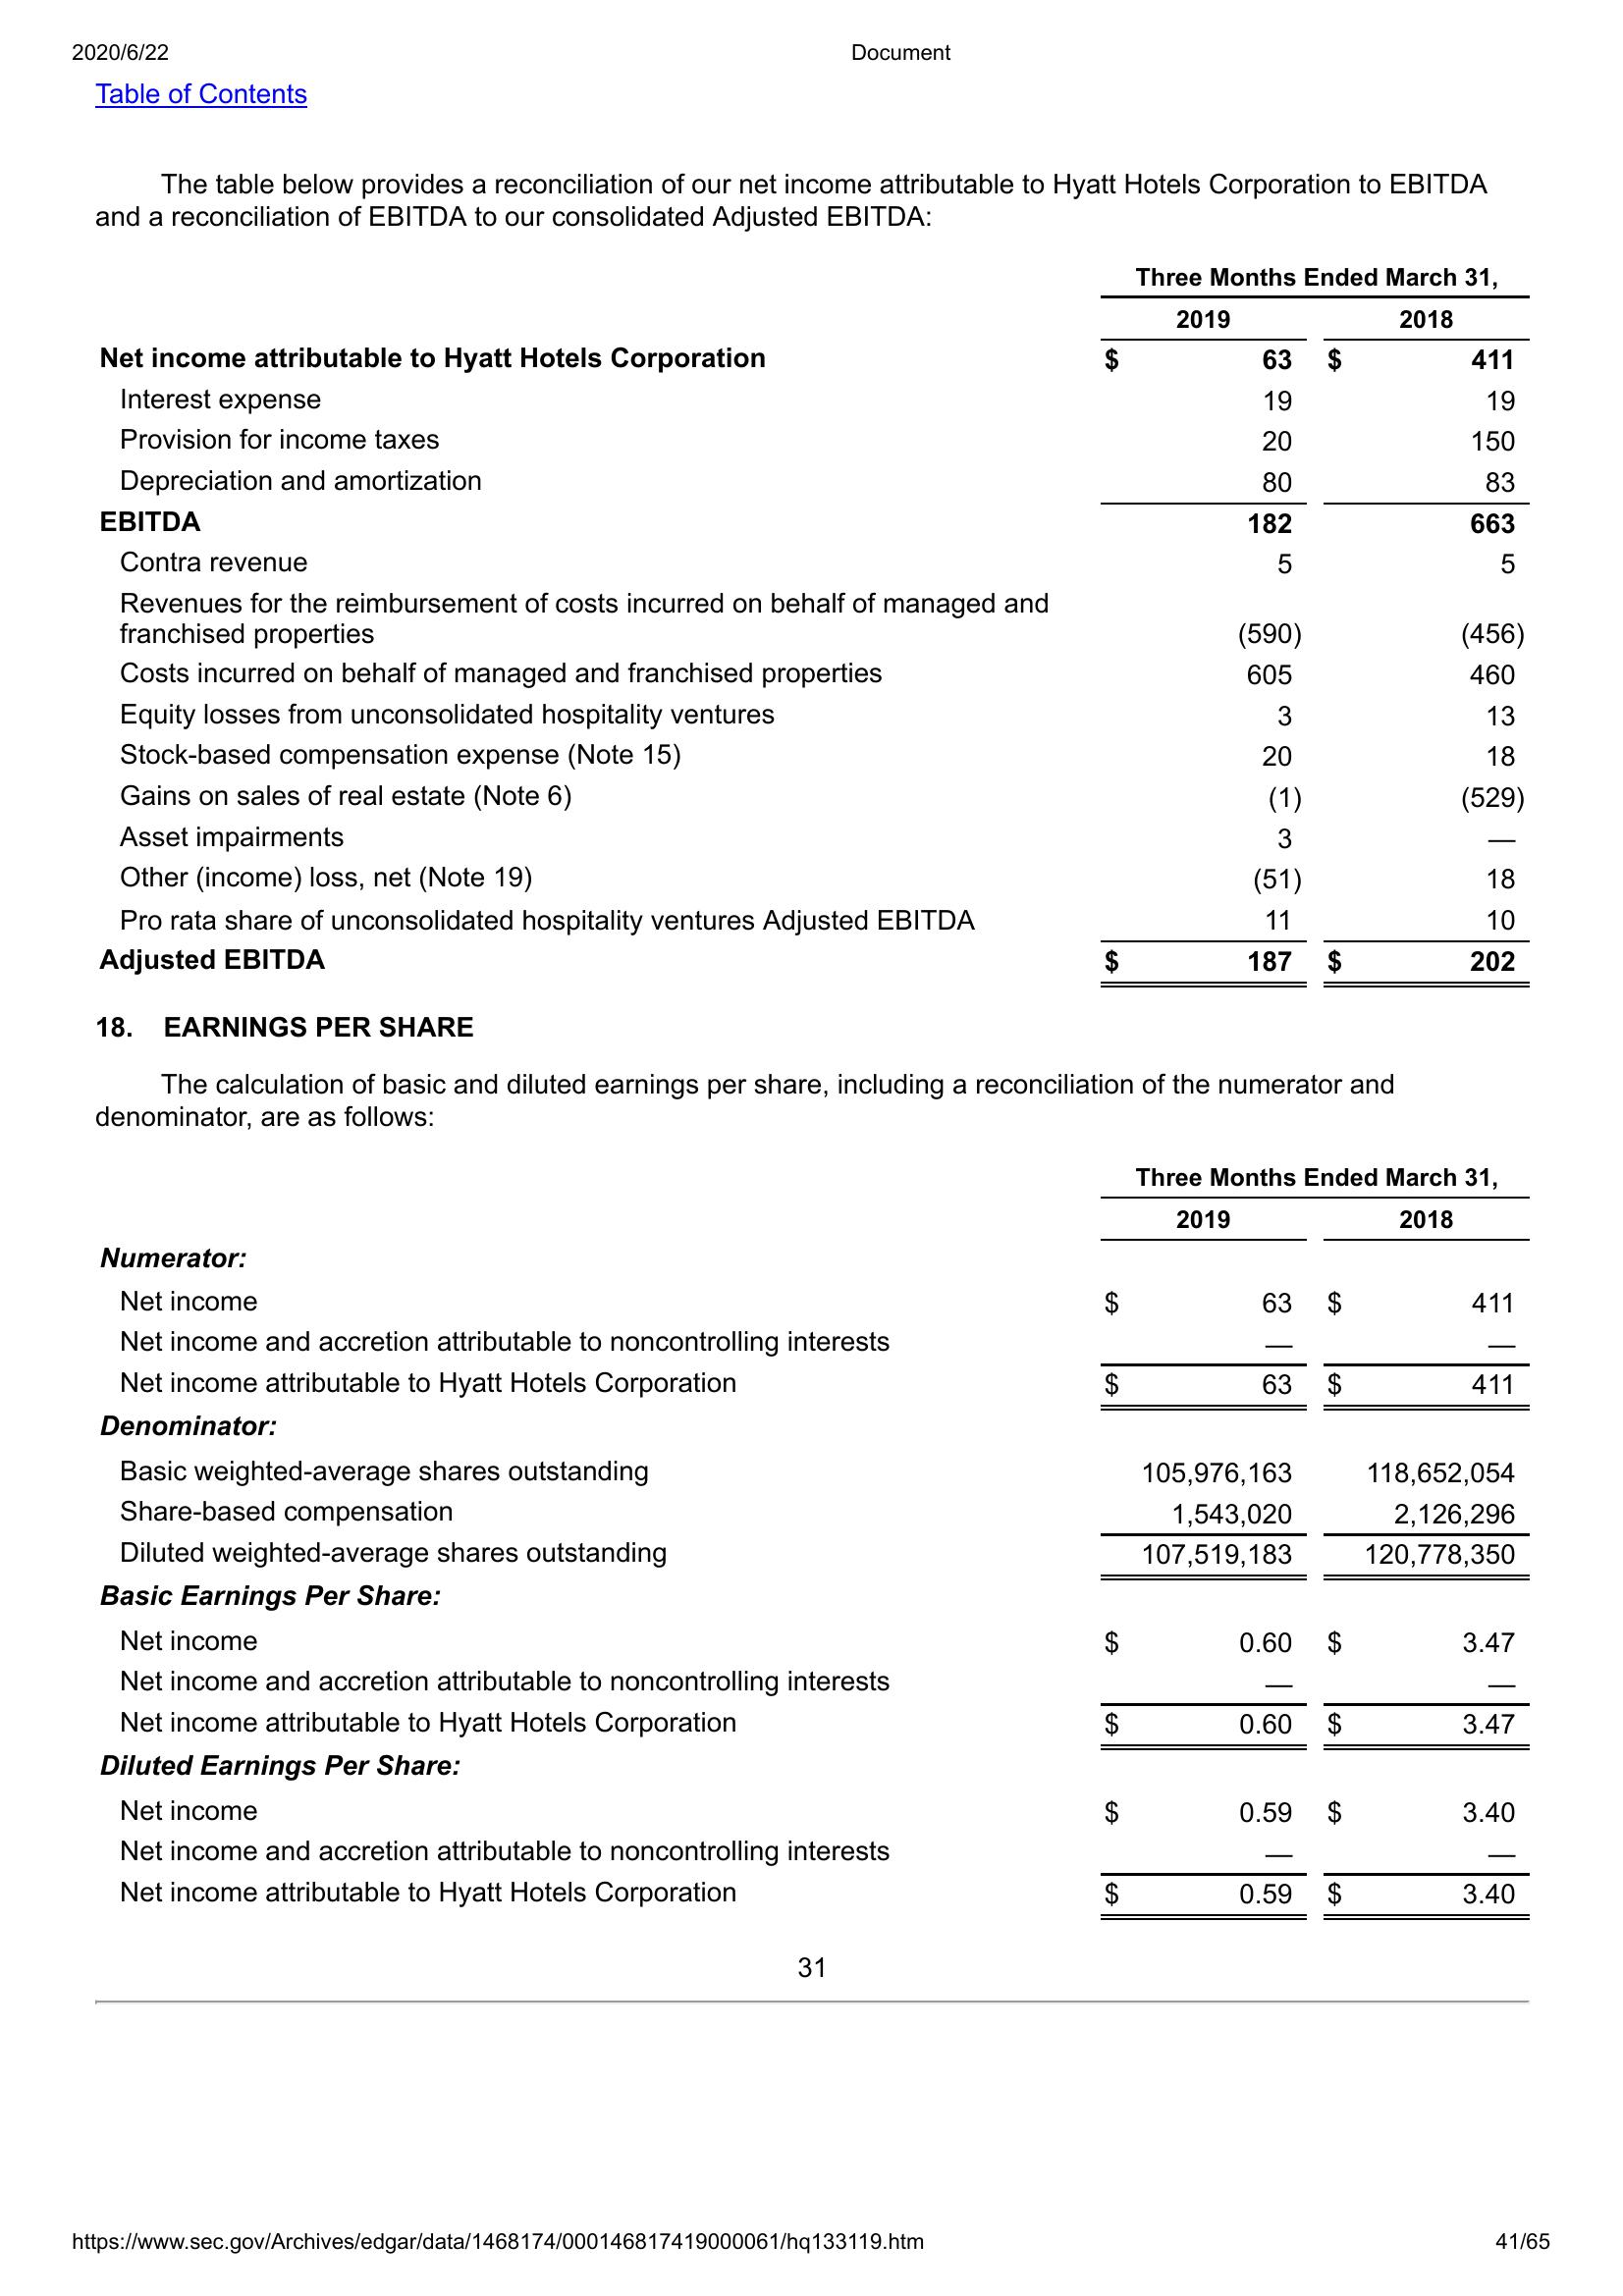table: (88, 1155, 1542, 1929), (84, 262, 1539, 994)
